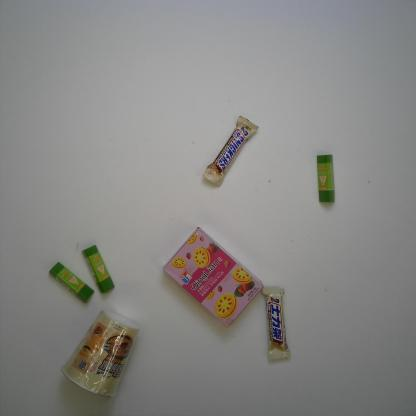Chocolate: (198, 114, 260, 191), (260, 285, 293, 363)
Dessert: (163, 226, 267, 329)
Instant Noodles: (57, 305, 144, 401)
Stationery: (47, 262, 96, 306), (80, 242, 116, 294), (316, 151, 341, 206)
